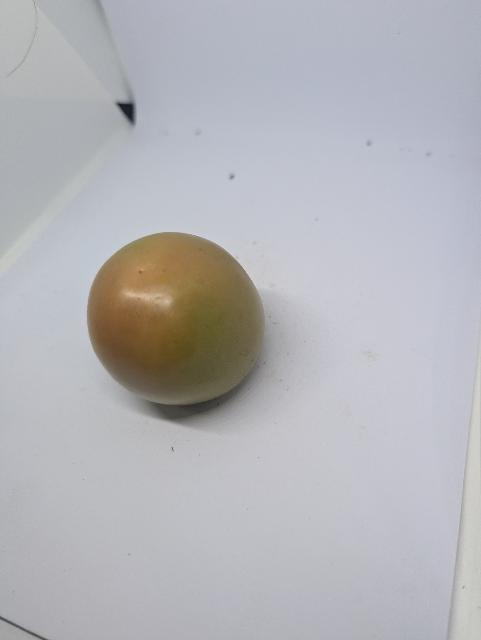turning: (78, 223, 271, 423)
